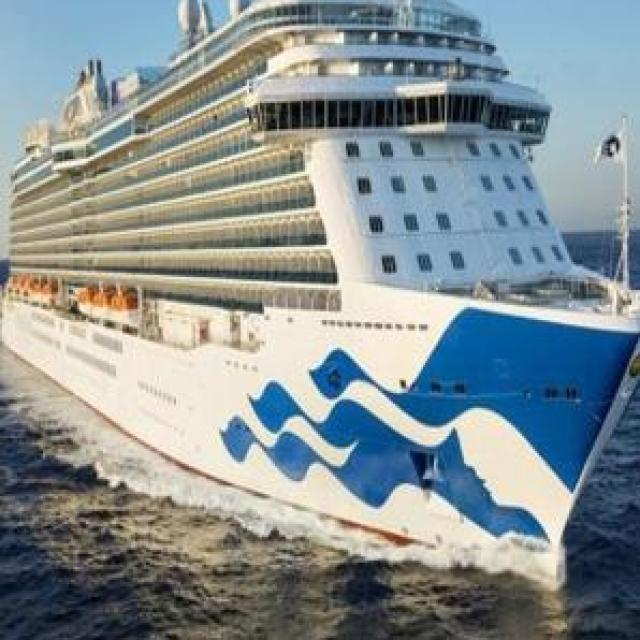passenger ship: (2, 0, 640, 586)
